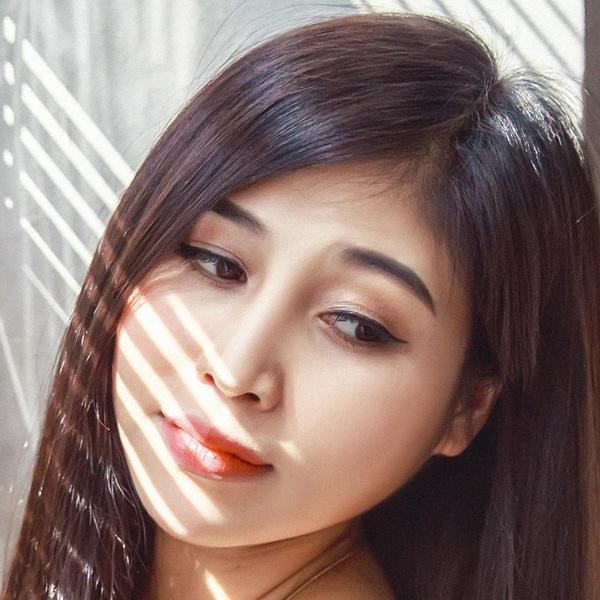Eyes: (307, 291, 405, 360), (166, 228, 252, 292)
